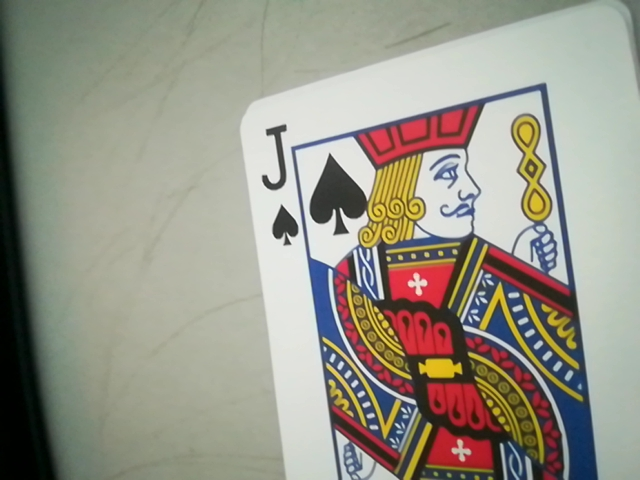ht j: (249, 127, 307, 253)
